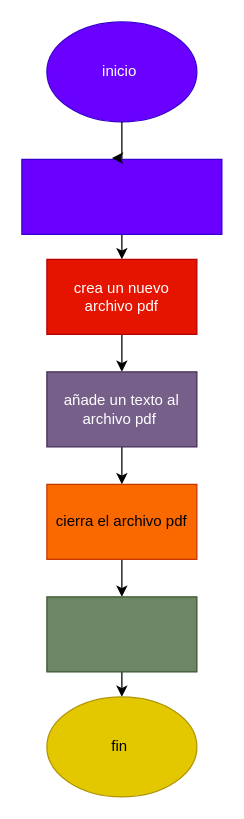
This 244x819 diagram has some shape labels left out. Here are the shapes that lost their labels. From the top down, the centre of each, then its label:
point (121, 196): conecta a la base de datos
point (121, 634): envia el correo electronico con el archivo adjunto
